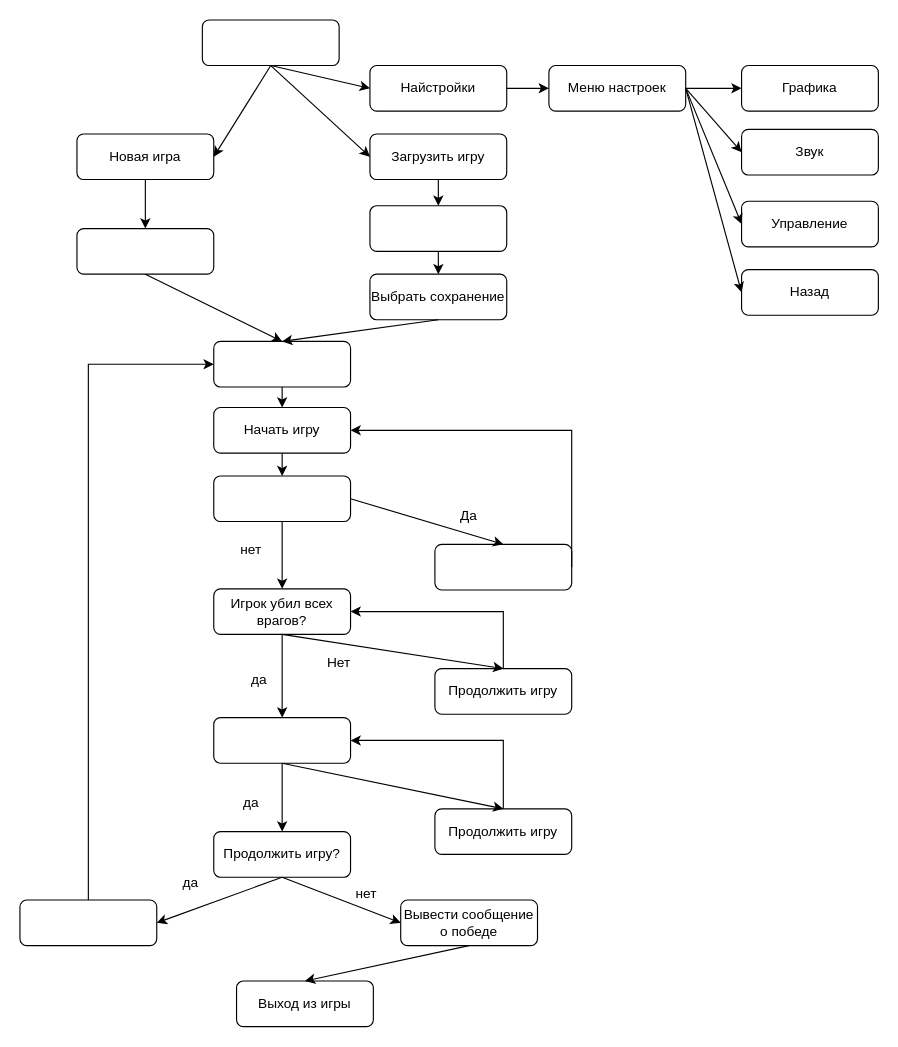
The diagram is 898 pixels wide and 1047 high, and some of its shapes have lost their labels. Here are the shapes that lost their labels. From the top down, the centre of each, then its label:
the point at 270,42: Старт
the point at 438,228: Список сохранений
the point at 145,250: Выбор персонажа
the point at 282,363: Переход на нужный уровень
the point at 282,498: Игрок умер?
the point at 503,566: Начать заново
the point at 282,739: Игрок дошел до финишний точки?
the point at 88,922: Перейти на новый уровень
